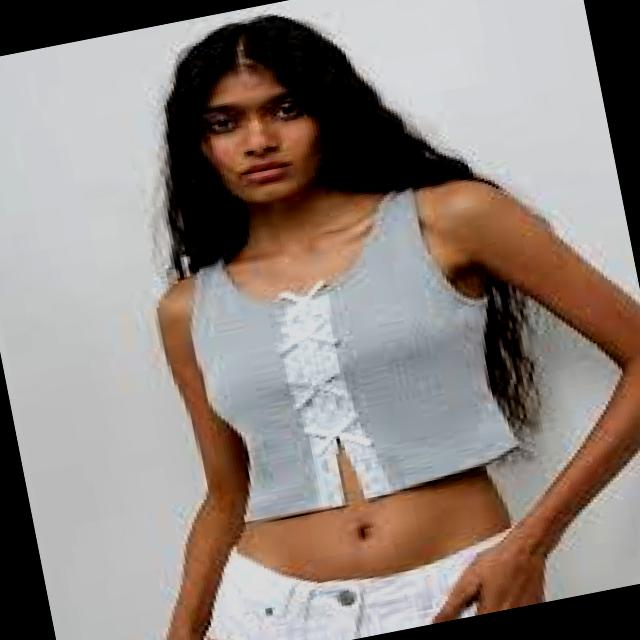face: (197, 66, 327, 204)
lower-wear: (203, 529, 511, 639)
top-wear: (189, 186, 518, 521)
